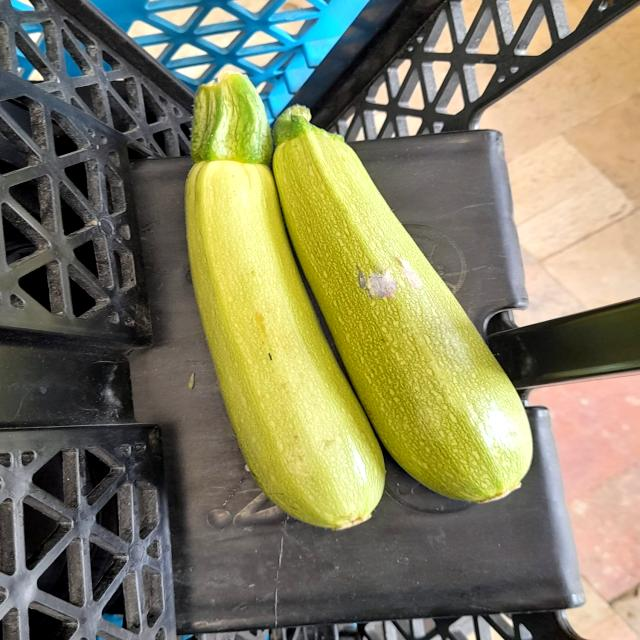zucchini: (266, 98, 539, 510), (174, 56, 396, 534)
